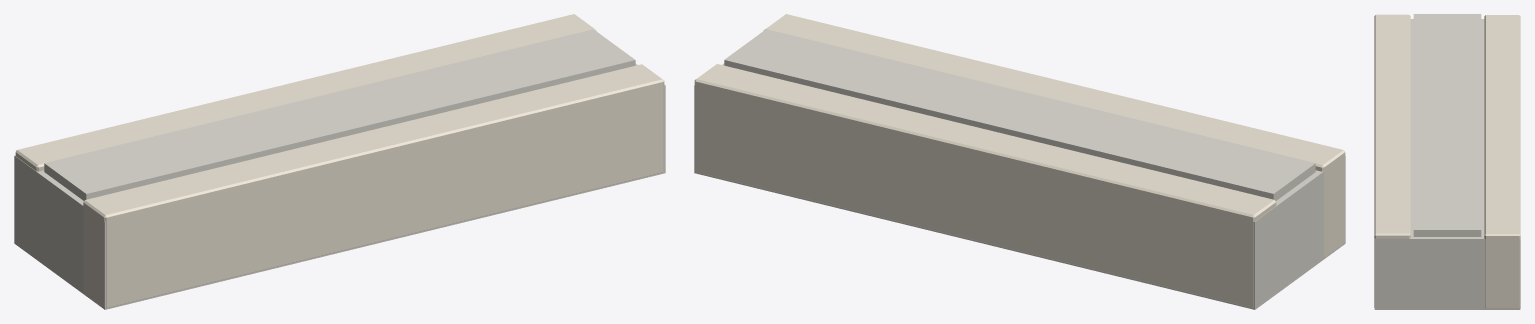
The model's file is roman-bathhouse-and-palaestra-drain-channel-run-6e057f19__37883.glb.
The picture shows the model from 3 angles, left to right: view 1: azimuth 30°, elevation 25°; view 2: azimuth 150°, elevation 25°; view 3: azimuth 270°, elevation 25°; orthographic projection. The views are drawn at different scales.
Visible parts, largest first — view 1: drain-channel-run; view 2: drain-channel-run; view 3: drain-channel-run.
Boxes of the visible parts, x1=… form: drain-channel-run: x1=14, y1=14, x2=665, y2=309; drain-channel-run: x1=694, y1=14, x2=1345, y2=309; drain-channel-run: x1=1374, y1=14, x2=1520, y2=309.
Bounding box in the file's own units: 2 × 0.3301 × 0.5625.
